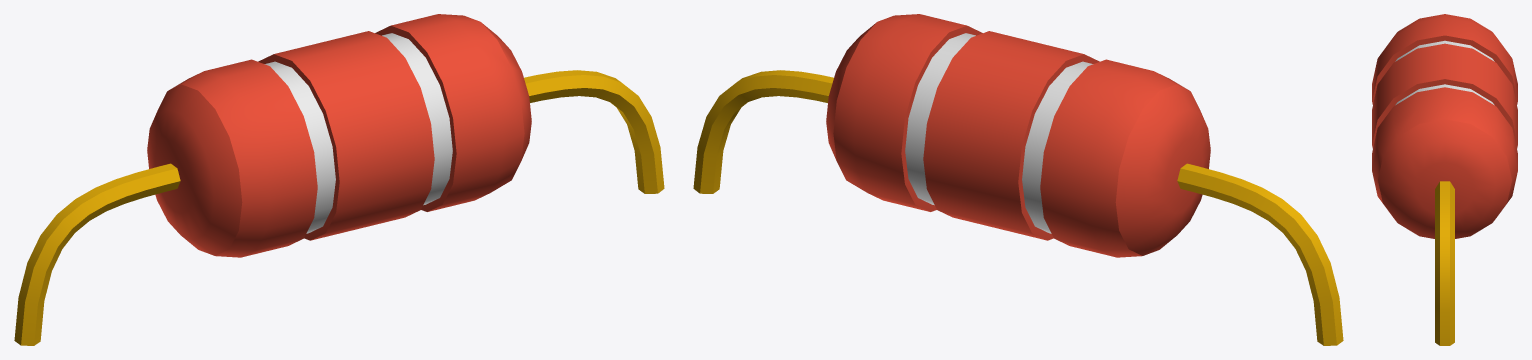
Rendered from diode_single.fbx.
3 views of the same model, side by side, from view 1: azimuth 30°, elevation 25°; view 2: azimuth 150°, elevation 25°; view 3: azimuth 270°, elevation 25° (orthographic). The views are drawn at different scales.
Parts seen in each view (by area): view 1: diode single; view 2: diode single; view 3: diode single.
Part boxes in pixels (bbox=[...]): diode single: bbox=[14, 14, 664, 345]; diode single: bbox=[693, 14, 1343, 345]; diode single: bbox=[1372, 14, 1517, 345].
Size of the model in its own units: 23.86 by 7.65 by 6.13.
